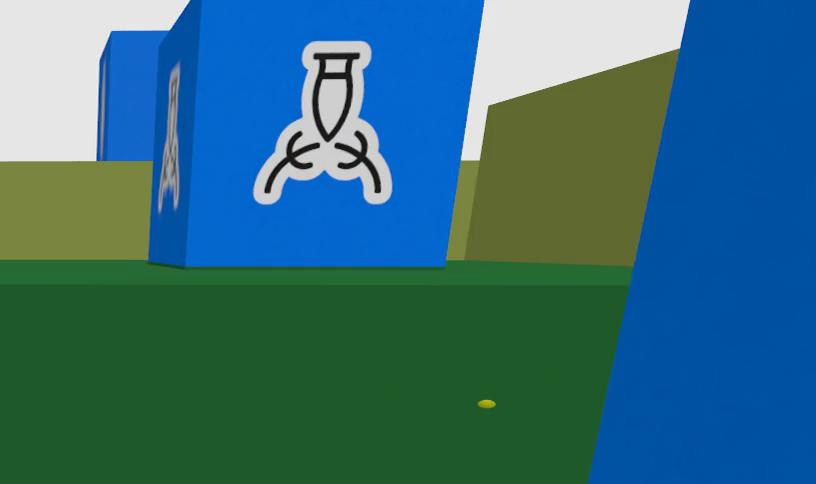KFS_REAL: (149, 0, 483, 267), (255, 41, 392, 204)
